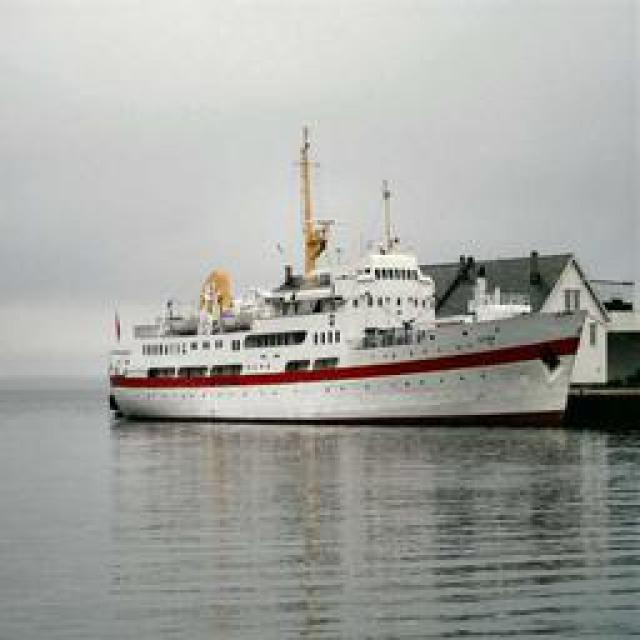Ship: (115, 168, 590, 426)
